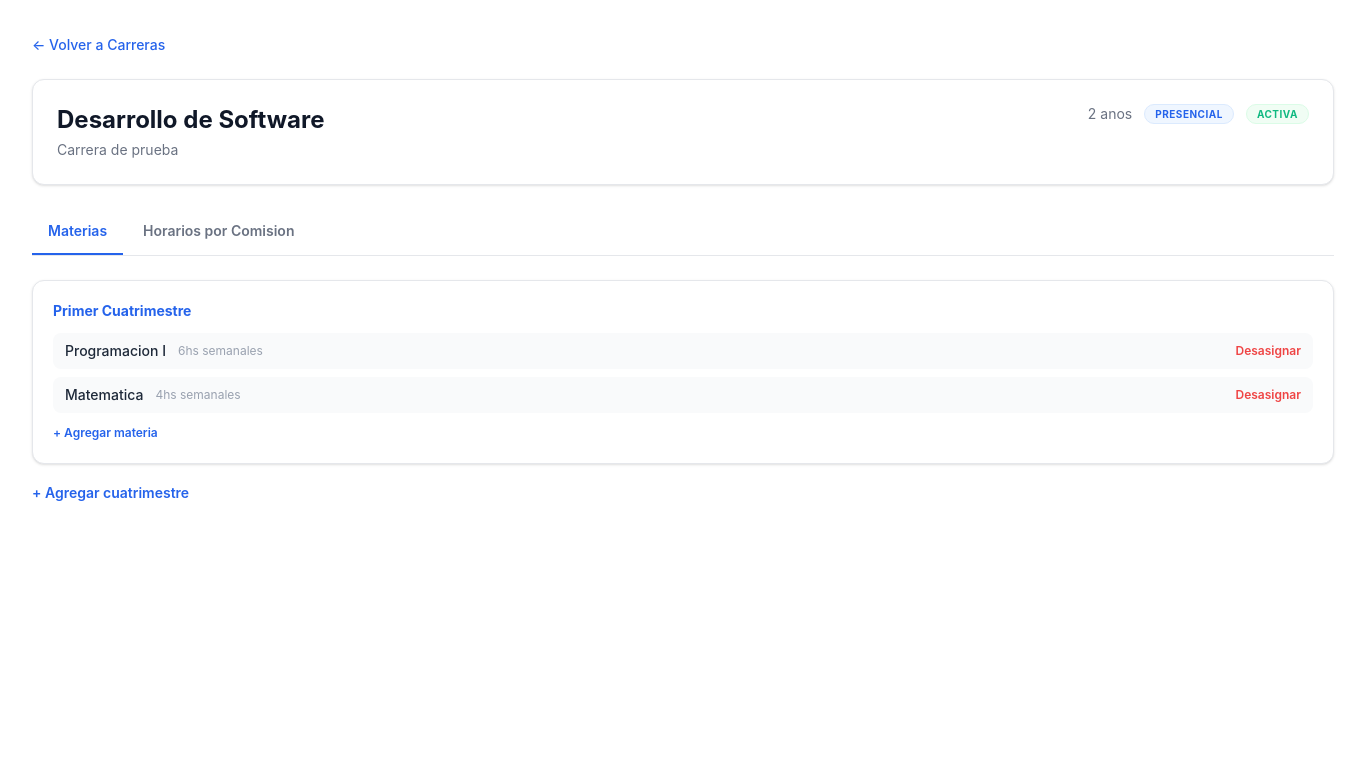
CarreraDetailAdmin - Horarios › muestra mensaje placeholder si no hay comision seleccionada
Click the button "Horarios por Comision".
click(219, 232)  # box [127,209,310,255]
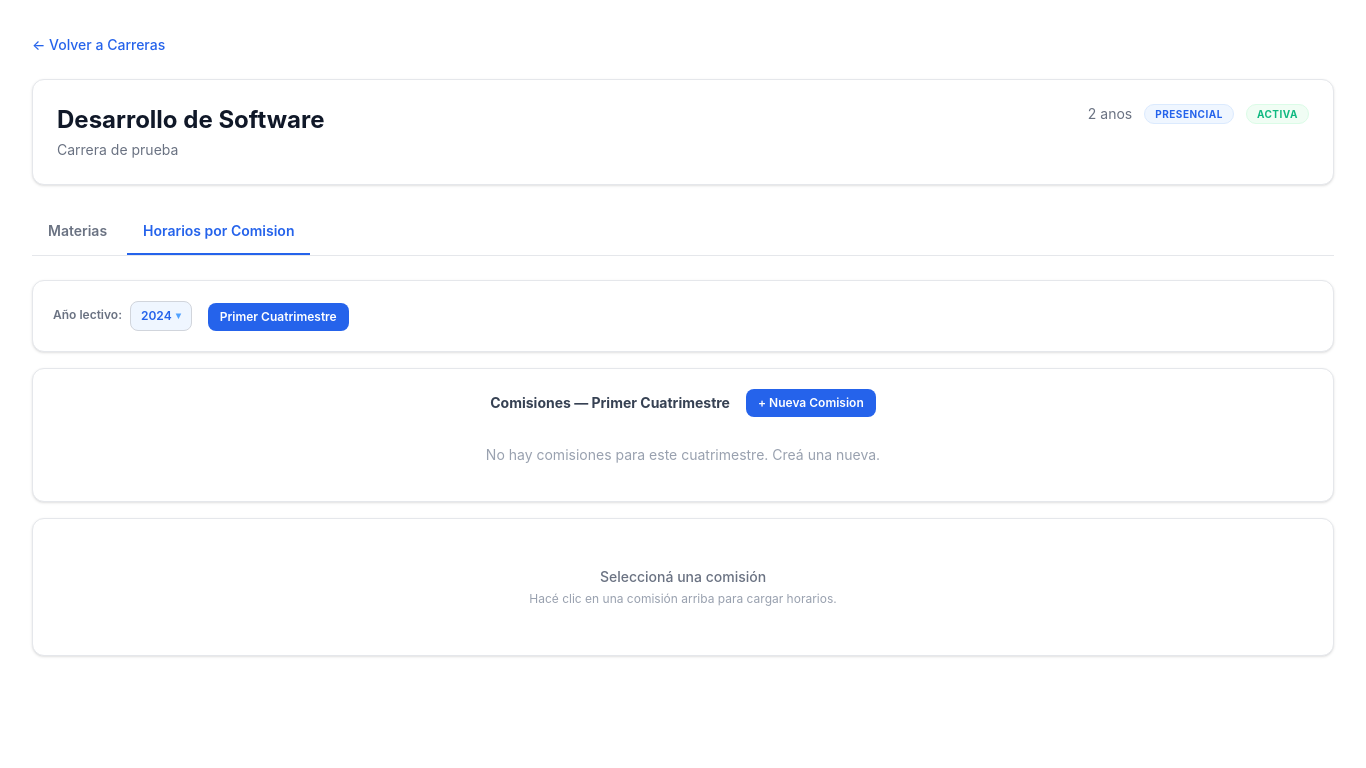
Expected: the text "No hay comisiones para este cuatrimestre. Creá una nueva." is shown, [486,445,880,465]
